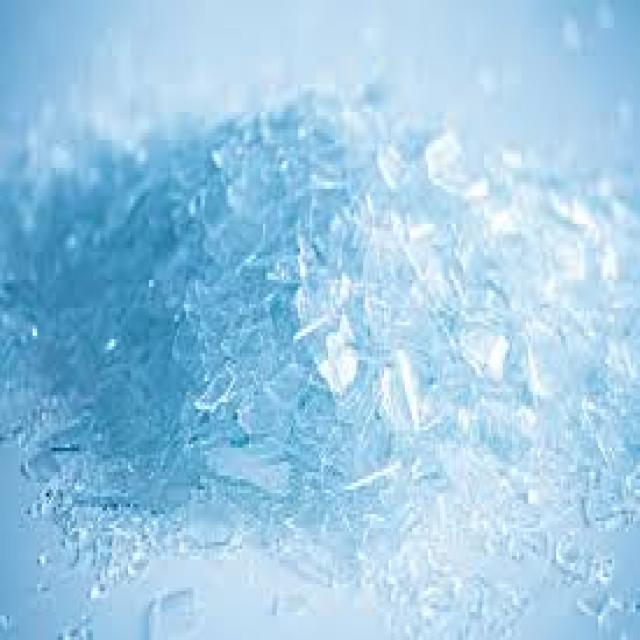glass: (12, 101, 189, 322), (158, 280, 328, 465), (366, 224, 573, 371), (482, 378, 638, 570), (30, 290, 189, 458), (277, 266, 451, 409), (342, 420, 500, 577), (475, 364, 638, 504), (19, 395, 165, 549), (195, 416, 347, 560), (61, 161, 168, 339), (337, 171, 498, 280), (251, 81, 398, 193), (386, 165, 531, 277), (298, 294, 414, 434), (93, 437, 214, 567), (0, 262, 77, 444), (137, 126, 233, 269), (272, 213, 354, 371), (189, 112, 289, 231), (545, 259, 638, 381), (554, 165, 638, 277), (422, 542, 515, 637), (326, 497, 419, 574), (68, 497, 140, 595), (354, 112, 431, 199), (531, 500, 601, 574), (415, 126, 480, 203), (494, 130, 564, 193), (582, 472, 638, 546), (566, 581, 638, 637), (145, 577, 189, 637), (391, 584, 440, 637)
